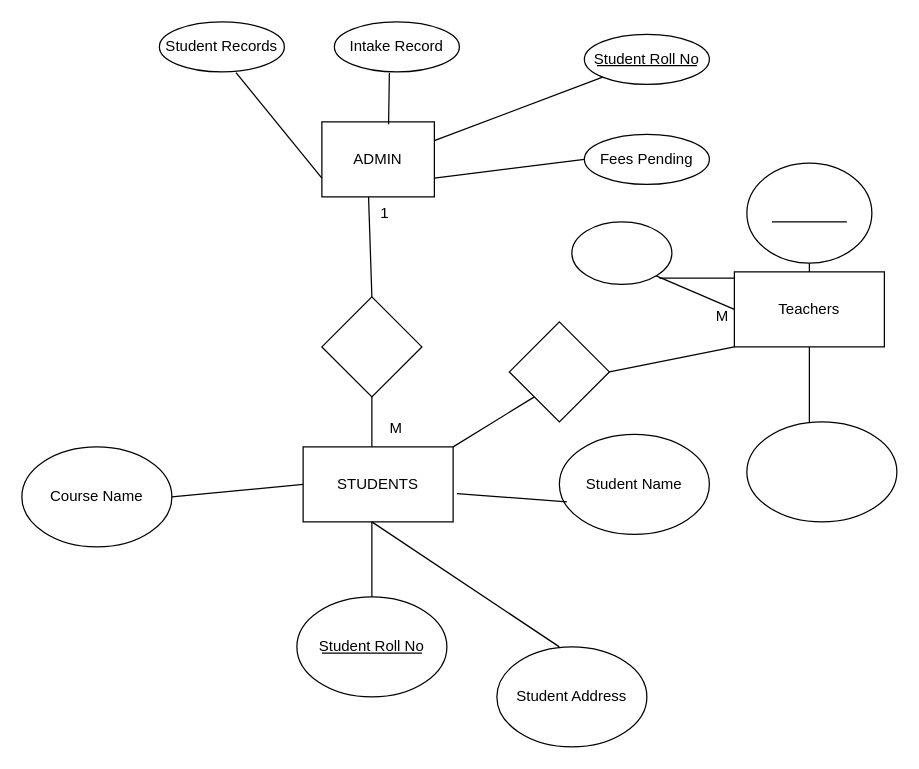
The diagram is 919 pixels wide and 769 high, and some of its shapes have lost their labels. Here are the shapes that lost their labels. From the top down, the centre of each, then its label:
At (809,212): "Teacher ID".
At (621,252): "Course ID".
At (371,346): "Manages".
At (558,371): "Teaches".
At (821,471): "Teacher Name".
